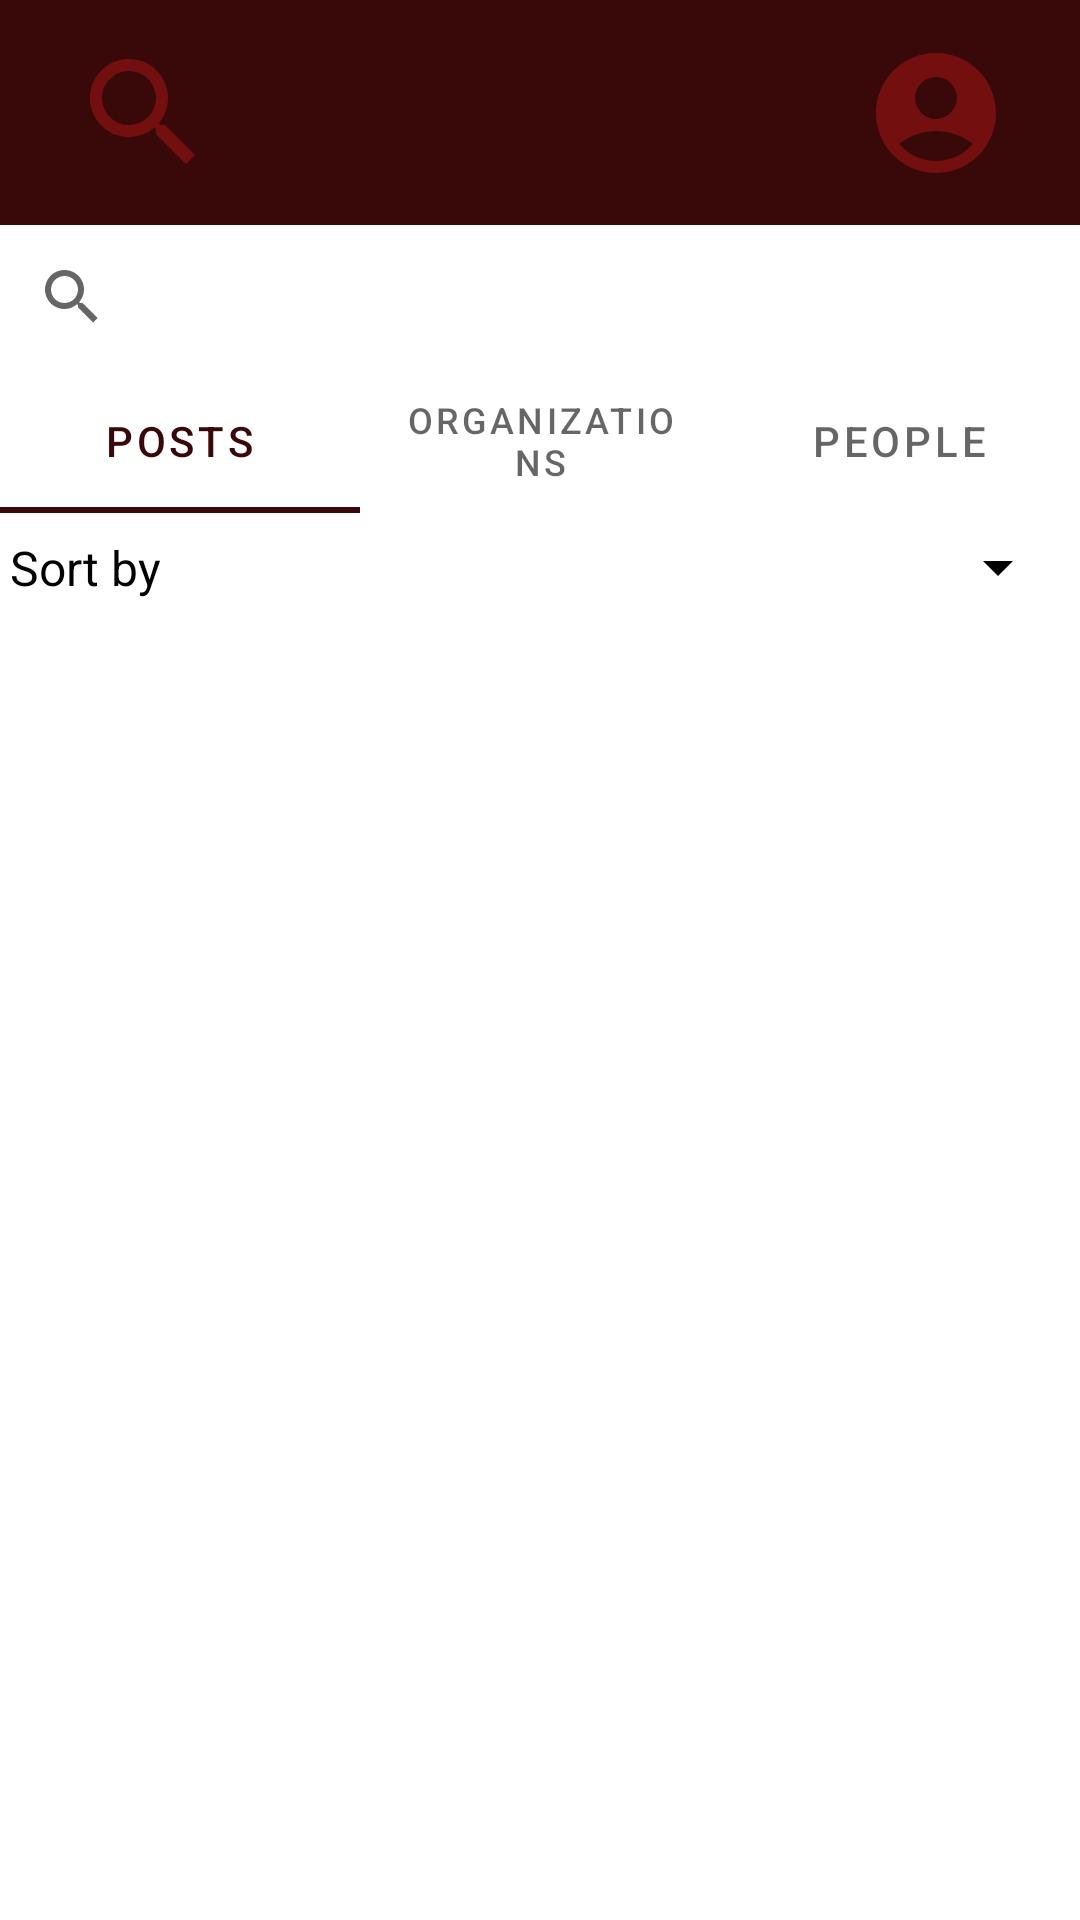

Locate icon controls on the screen. Image size 1080*1920, boxes as {"x1": x1, "y1": y1, "x2": x2, "y2": y2}.
Discover Page Icon: {"x1": 90, "y1": 59, "x2": 195, "y2": 164}
Profile Page Icon: {"x1": 876, "y1": 53, "x2": 996, "y2": 173}
